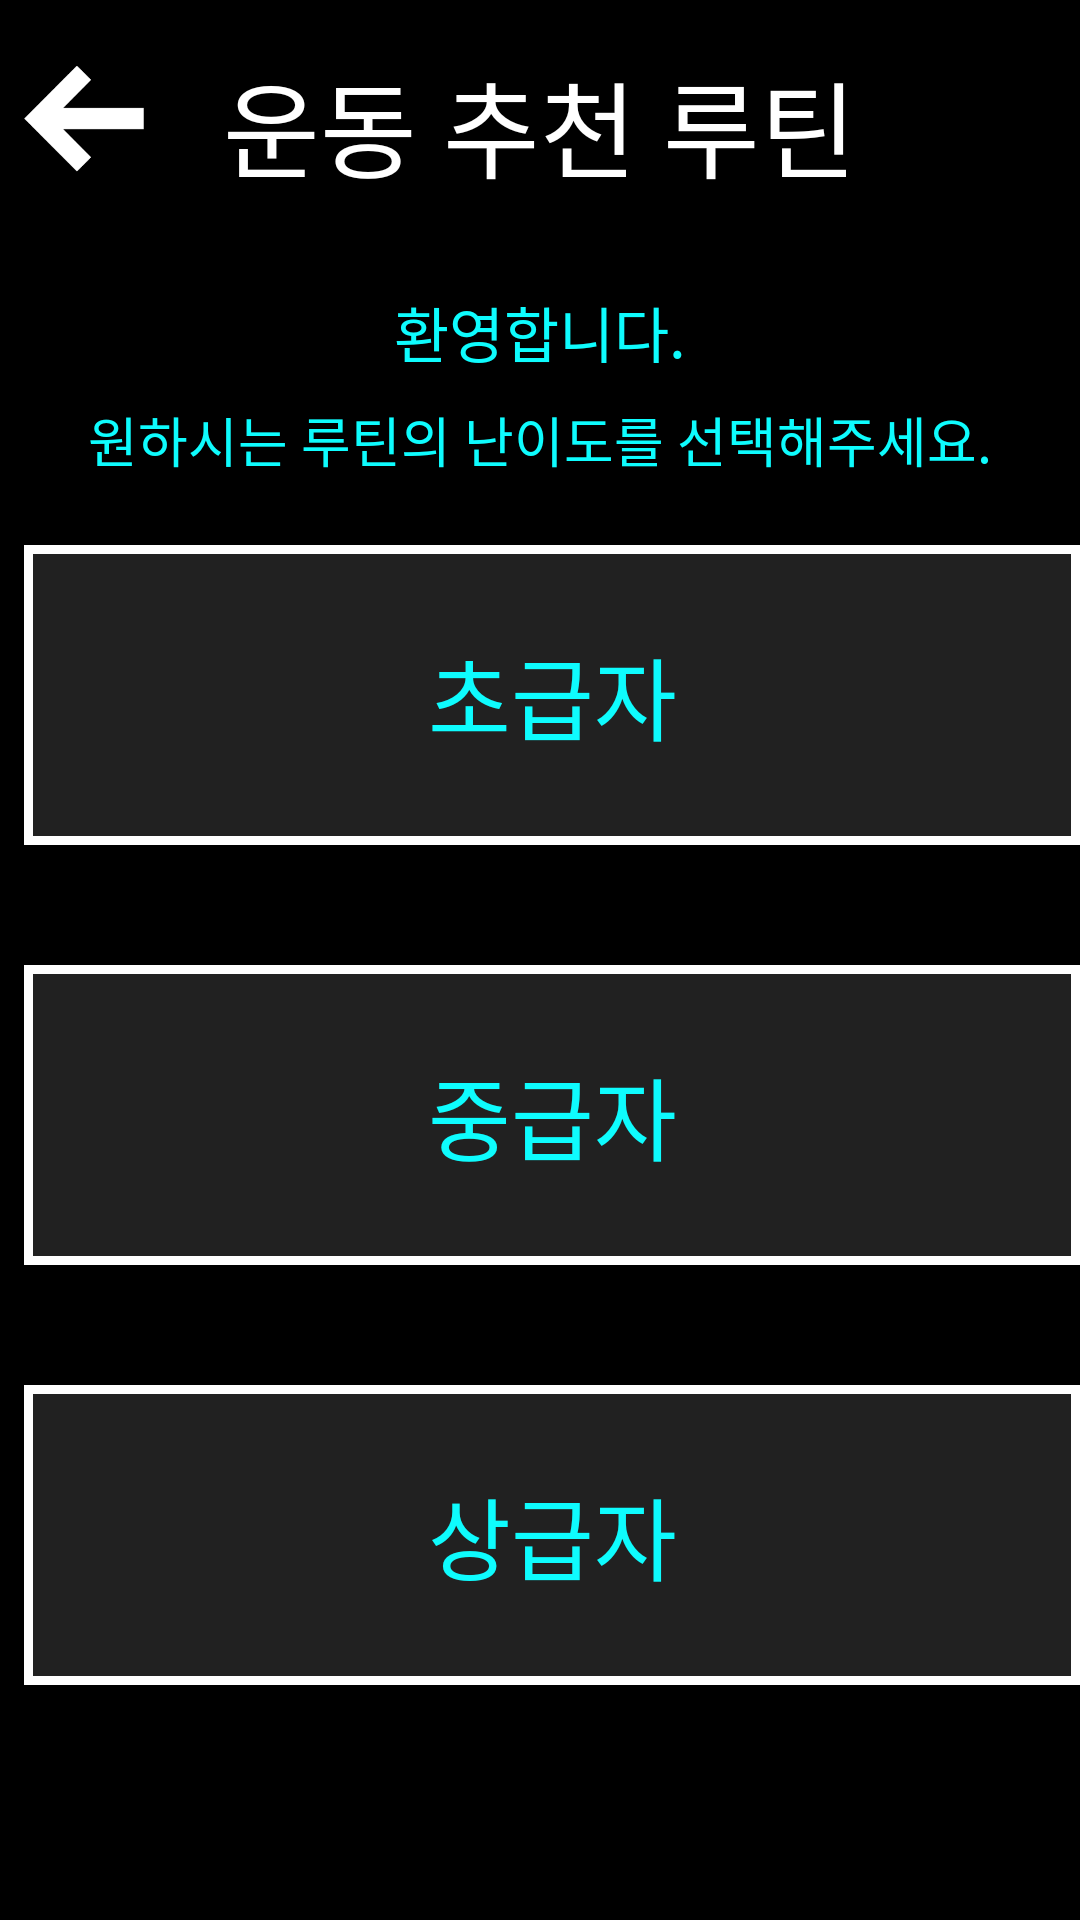

Where icons sit on this 1080w x 1920h app screen, as (x1, y1, x2, y2):
leftarrow: (24, 66, 144, 171)
